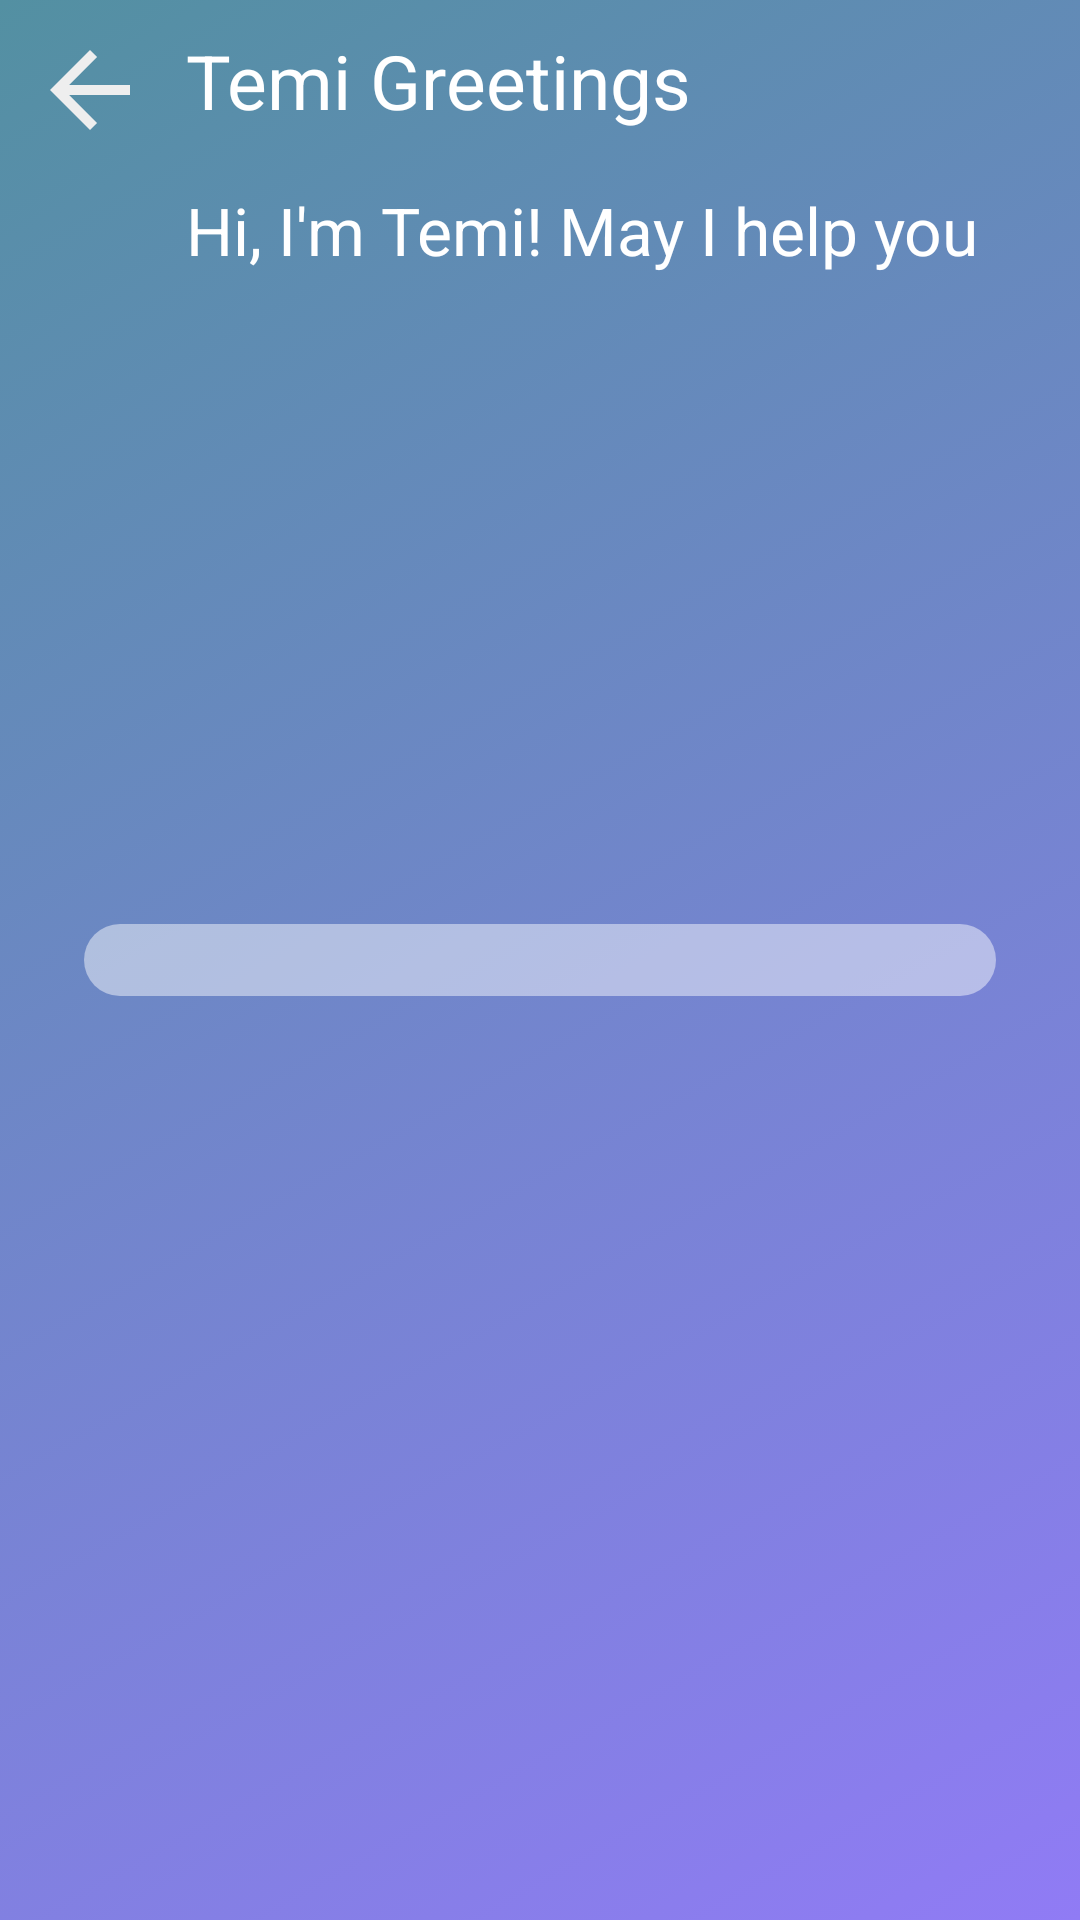

Where to tap for icons on this 1080px x 1920px app screen, as point (x, y):
arrow back: point (90, 90)
